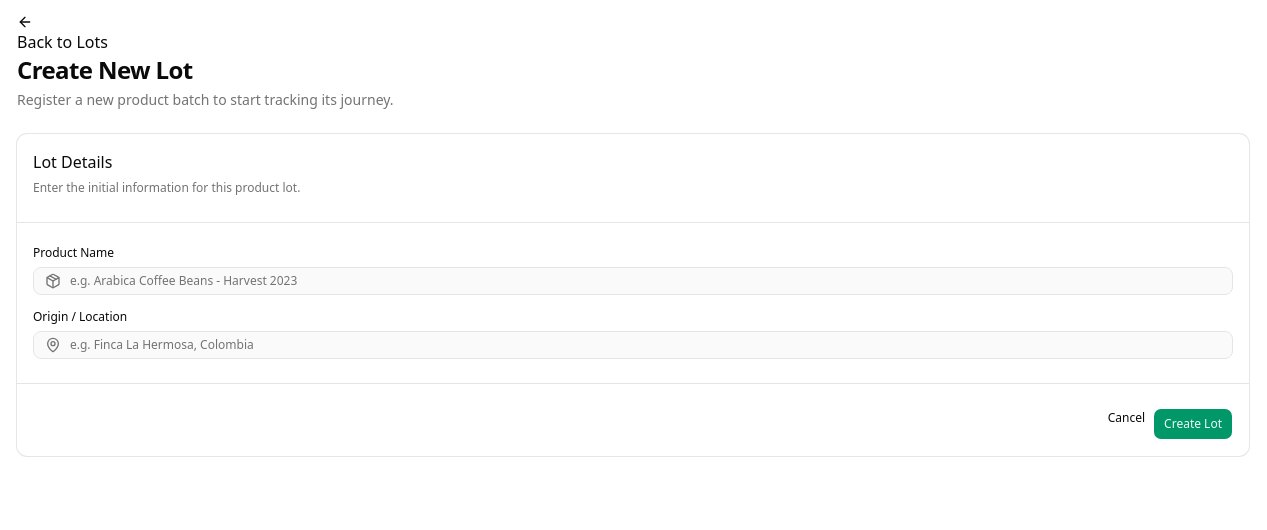
Test case: CreateLotForm › shows validation errors for empty submit
Click the button with test id "create-lot" at {"x": 1193, "y": 424}, box [1153,408,1233,440]
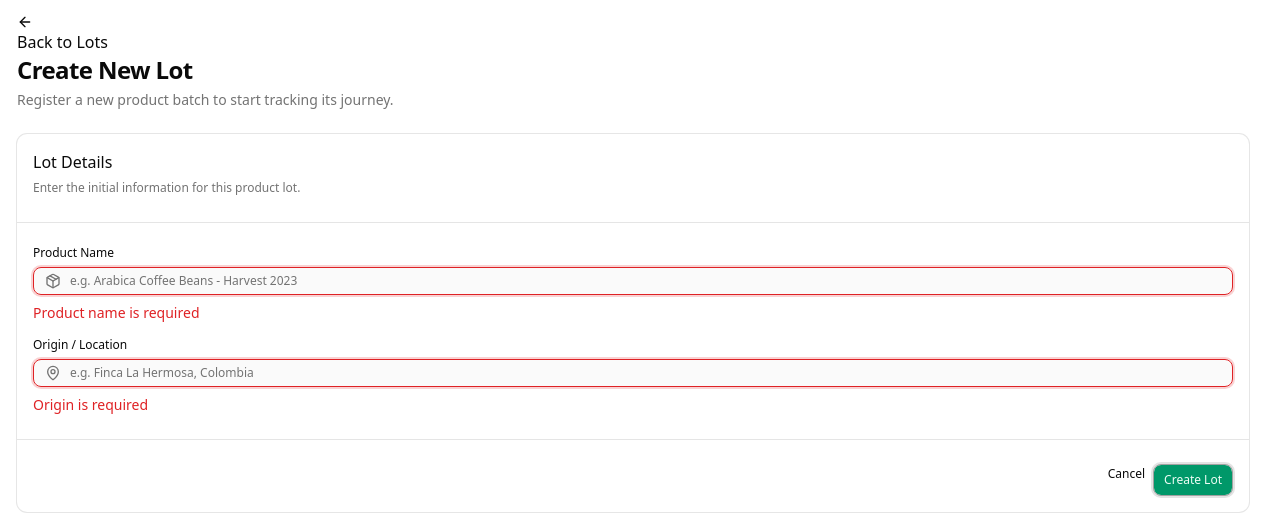
Now the text "Product name is required" is shown, box [33,302,200,322]
Now the text "Origin is required" is shown, box [33,394,148,414]
